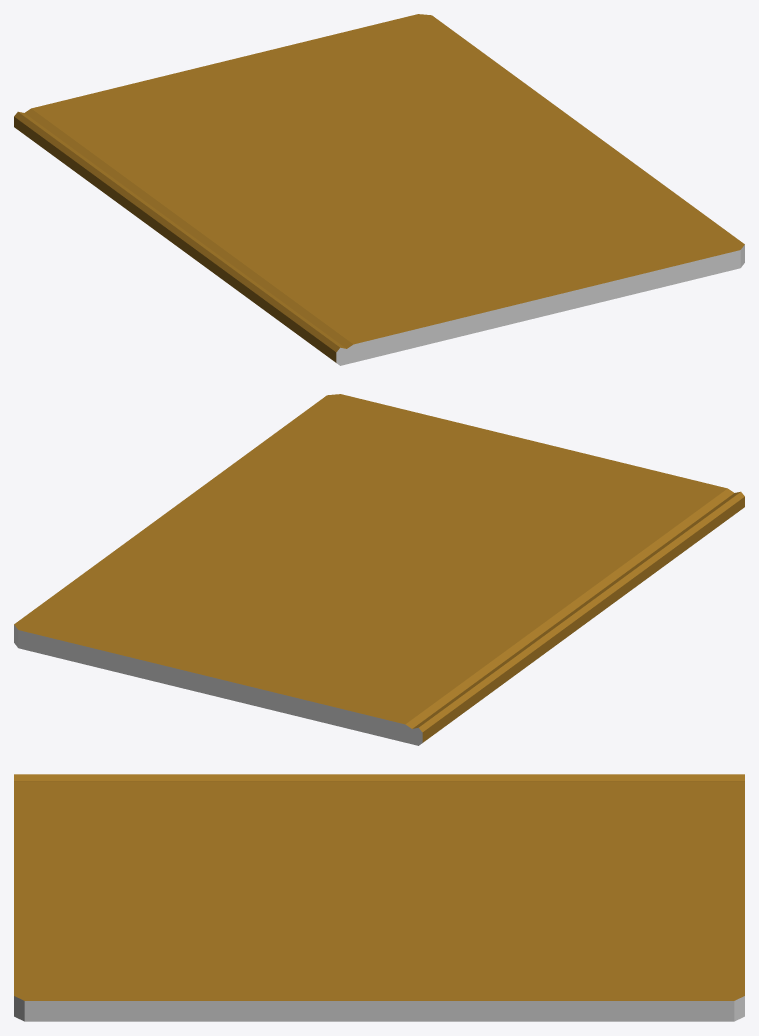
Rendered from Cahier_03.fbx.
3 renders of one model, top to bottom at view 1: azimuth 30°, elevation 25°; view 2: azimuth 150°, elevation 25°; view 3: azimuth 270°, elevation 25°, orthographic. The views are drawn at different scales.
Parts seen in each view (by area): view 1: Cahier; view 2: Cahier; view 3: Cahier.
Part boxes in pixels (x1,y1,x2,y2): Cahier: (14,14,744,365); Cahier: (14,394,744,745); Cahier: (14,774,744,1021).
Size of the model in its own units: 23.68 by 32 by 1.
